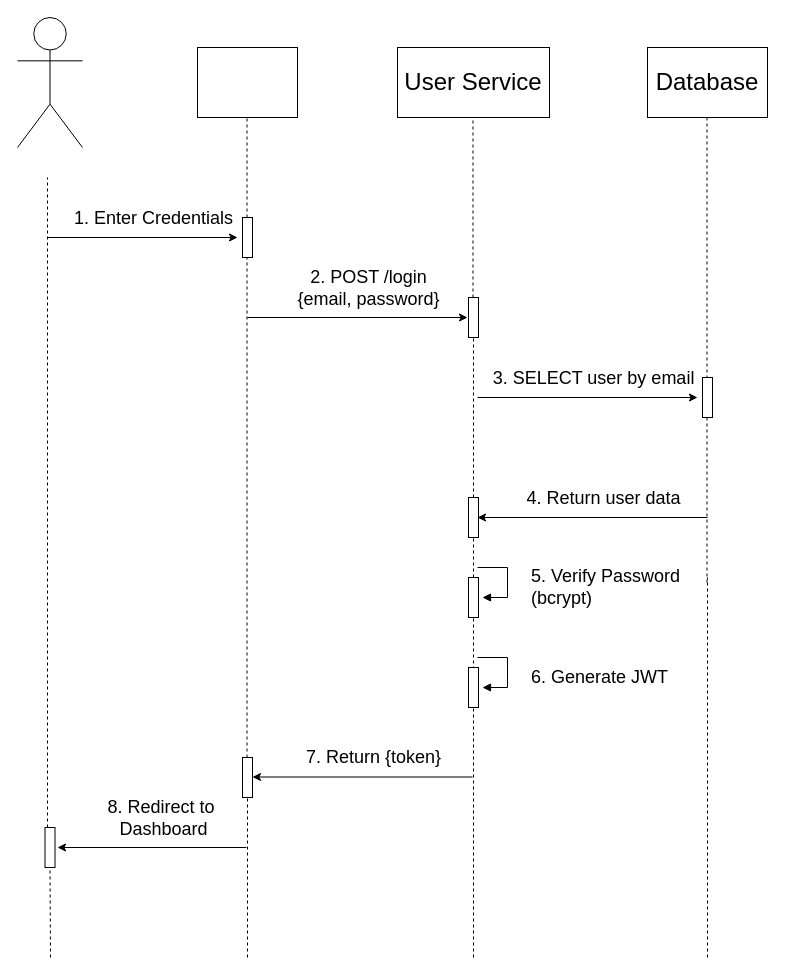
Image size: 785x976. Some labels were removed from this diagram. The shapes that lost their labels are listed below. From the top down, each one's centre as x and y in pixels, then its label:
At (49,82): "User".
At (247,82): "Frontend".
